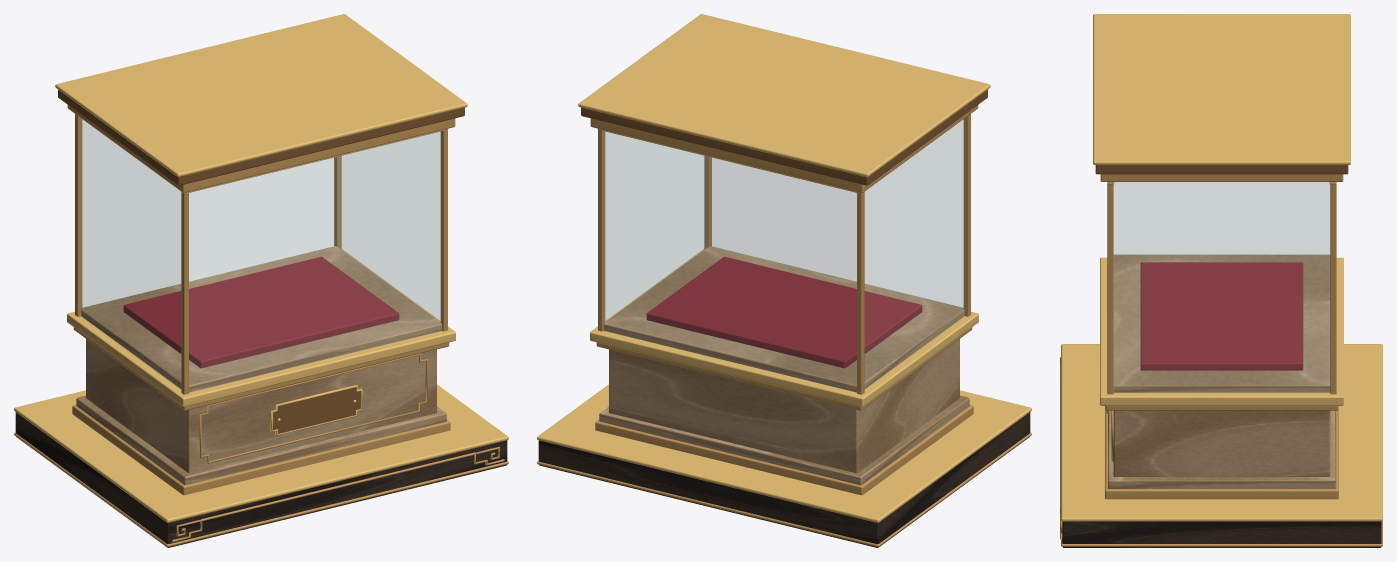
The model's file is gallery-treasure-cabinet.glb.
The picture shows the model from 3 angles, left to right: view 1: azimuth 30°, elevation 25°; view 2: azimuth 150°, elevation 25°; view 3: azimuth 270°, elevation 25°; orthographic projection. The views are drawn at different scales.
Parts seen in each view (by area): view 1: Treasure cabinet; view 2: Treasure cabinet; view 3: Treasure cabinet.
Boxes of the visible parts, x1=… form: Treasure cabinet: x1=14, y1=14, x2=508, y2=547; Treasure cabinet: x1=537, y1=14, x2=1031, y2=547; Treasure cabinet: x1=1060, y1=14, x2=1382, y2=547.
Bounding box in the file's own units: 3.3 × 3.3 × 2.58.
8 materials, 2 textured.
